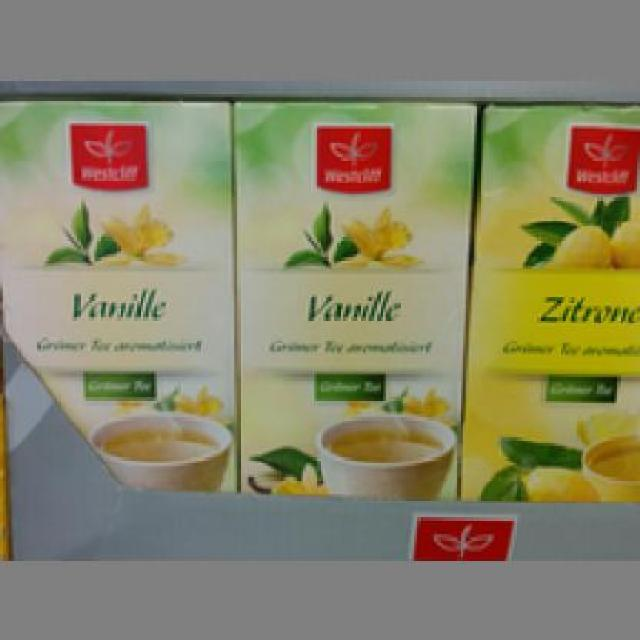Tea: (228, 97, 474, 503), (0, 91, 237, 492), (457, 100, 637, 500)
